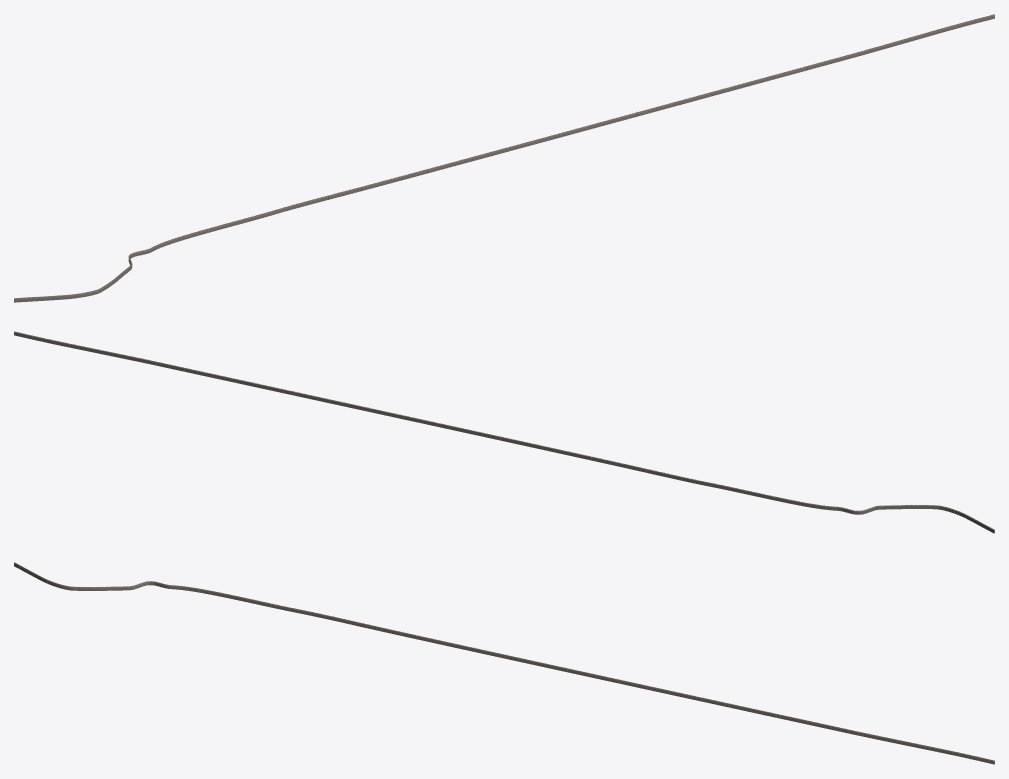
The model's file is Pared2_4.glb.
3 views of the same model, one above another, from view 1: azimuth 30°, elevation 25°; view 2: azimuth 150°, elevation 25°; view 3: azimuth 330°, elevation 25° (orthographic). The views are drawn at different scales.
Visible parts, largest first — view 1: MuroNorte; view 2: MuroNorte; view 3: MuroNorte.
Part boxes in pixels (left/top/right/bottom): MuroNorte: left=14, top=14, right=994, bottom=302; MuroNorte: left=14, top=331, right=994, bottom=533; MuroNorte: left=14, top=562, right=994, bottom=764.
Bounding box in the file's own units: 189 × 0.7375 × 18.67.
1 material, 1 textured.
